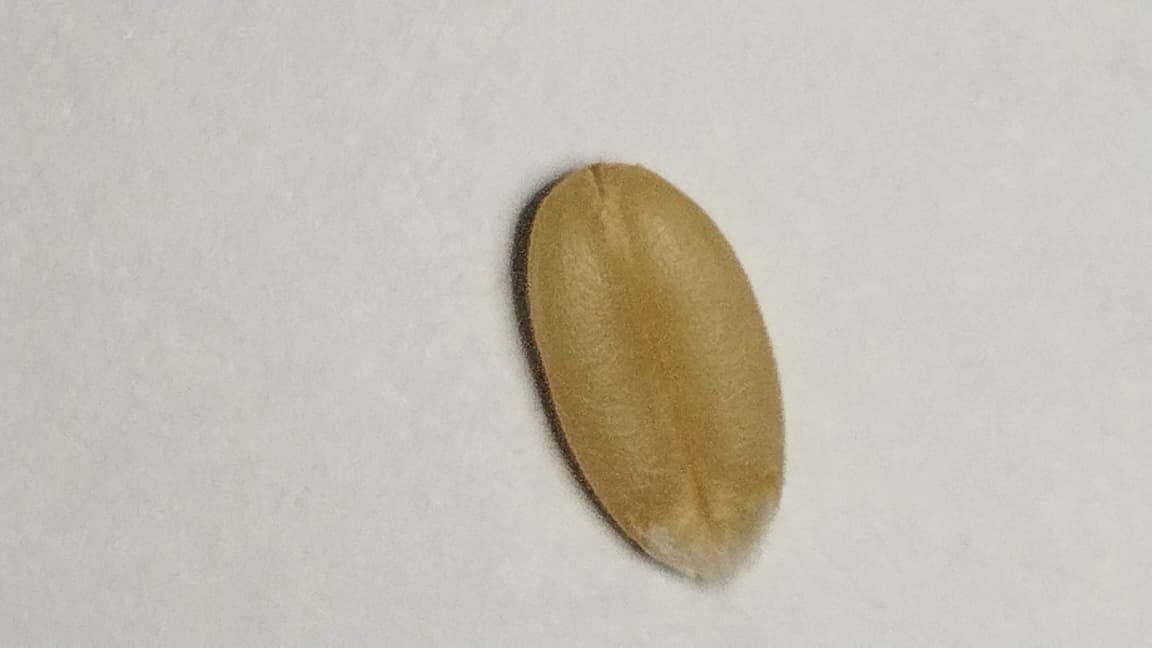healthy: (522, 163, 782, 579)
